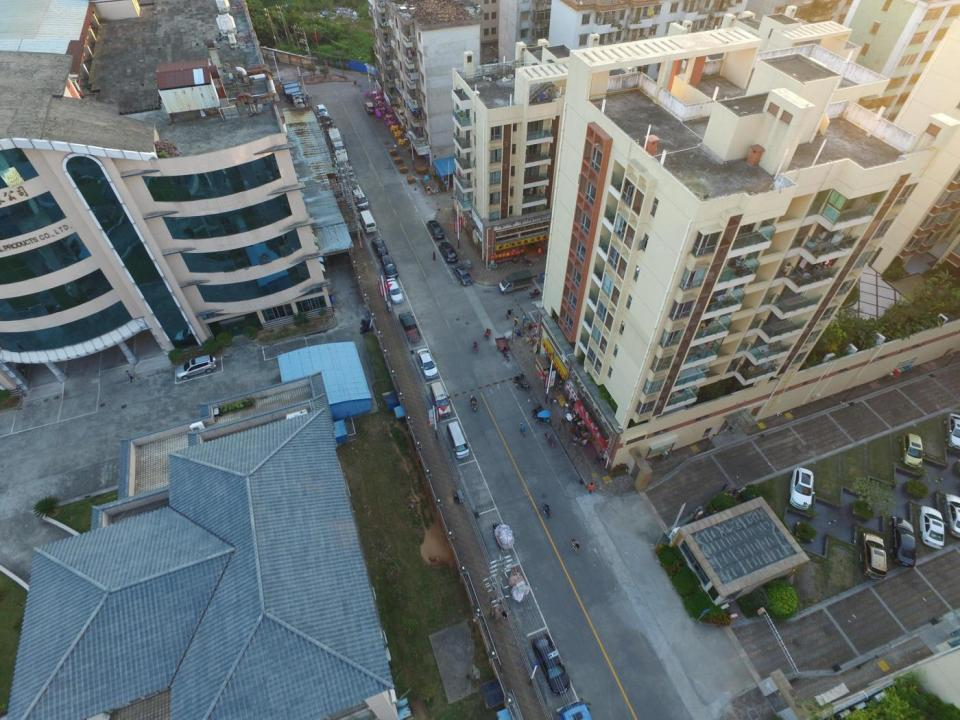car: (530, 633, 571, 696), (887, 515, 917, 570), (918, 502, 946, 550), (862, 531, 888, 581), (788, 466, 814, 510), (175, 354, 217, 381), (900, 430, 925, 470), (941, 492, 960, 539), (416, 347, 439, 381), (943, 412, 960, 450), (451, 263, 474, 287), (437, 241, 459, 264), (380, 254, 399, 280), (386, 278, 404, 304), (426, 219, 445, 241), (371, 237, 389, 257), (363, 101, 376, 114)
truck: (497, 270, 533, 294), (557, 697, 593, 720), (398, 310, 422, 342), (326, 125, 346, 155), (334, 149, 350, 165)
van: (446, 421, 470, 459), (430, 379, 452, 419), (348, 185, 369, 209), (359, 209, 377, 234), (316, 104, 327, 117)
